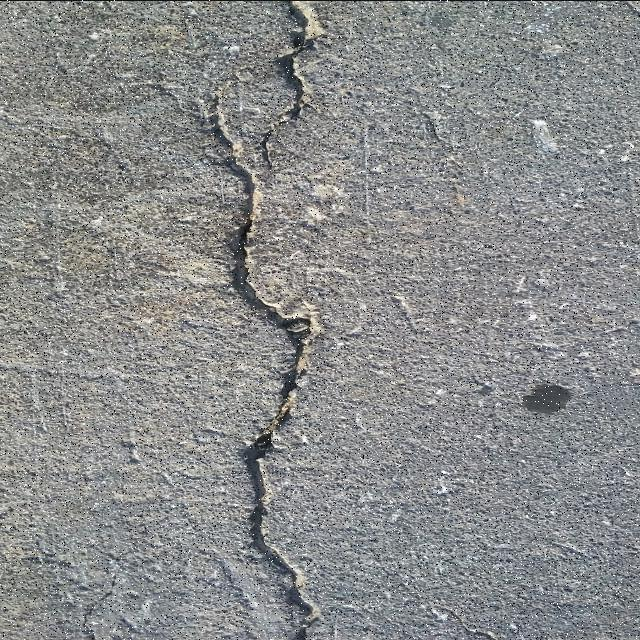Crack: (203, 85, 323, 640), (256, 0, 324, 172)
